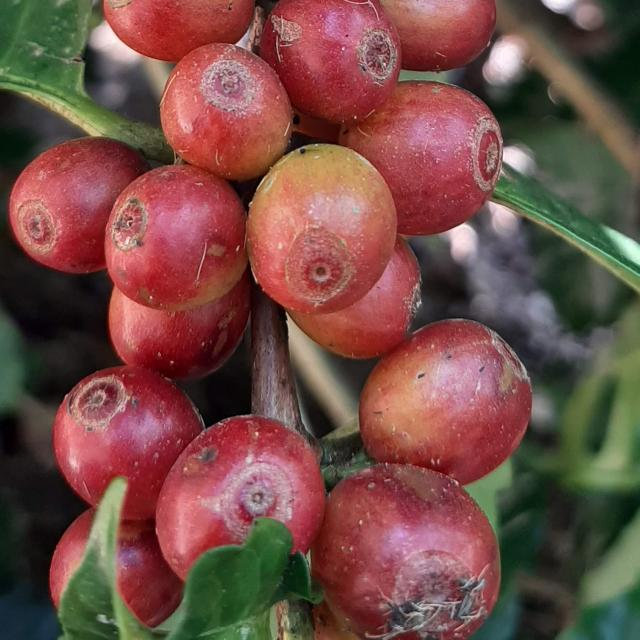red: (312, 465, 501, 640), (156, 415, 325, 581), (339, 80, 502, 235), (52, 366, 203, 520), (8, 137, 148, 273), (260, 0, 402, 122), (108, 270, 251, 381), (103, 0, 254, 61), (115, 521, 183, 629), (49, 508, 95, 610)
yellow: (359, 319, 533, 485), (247, 144, 397, 314), (160, 42, 292, 180), (288, 236, 422, 359)
